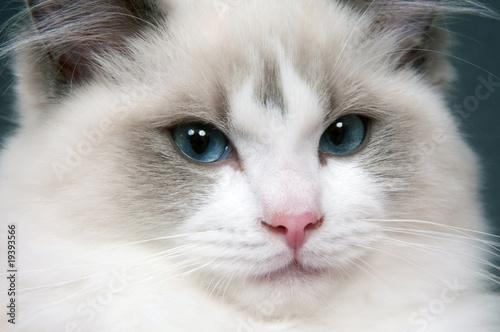ragdoll: (31, 1, 438, 303)
